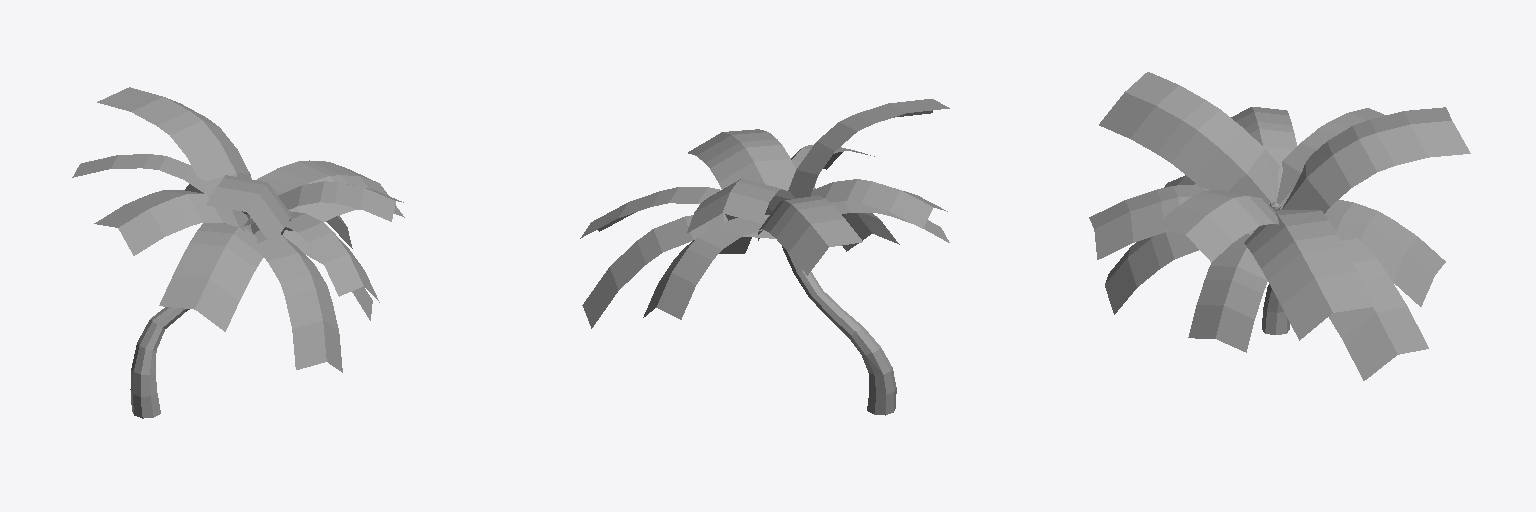
File: PalmTree_4.obj
3 views of the same model, side by side, from view 1: azimuth 30°, elevation 25°; view 2: azimuth 150°, elevation 25°; view 3: azimuth 270°, elevation 25° (orthographic).
Parts seen in each view (by area): view 1: PalmTree_4_Cube.004; view 2: PalmTree_4_Cube.004; view 3: PalmTree_4_Cube.004.
Boxes of the visible parts, x1=… form: PalmTree_4_Cube.004: x1=72, y1=87, x2=404, y2=418; PalmTree_4_Cube.004: x1=580, y1=99, x2=949, y2=415; PalmTree_4_Cube.004: x1=1089, y1=72, x2=1470, y2=380.
Size of the model in its own units: 4.75 by 3.65 by 4.95.